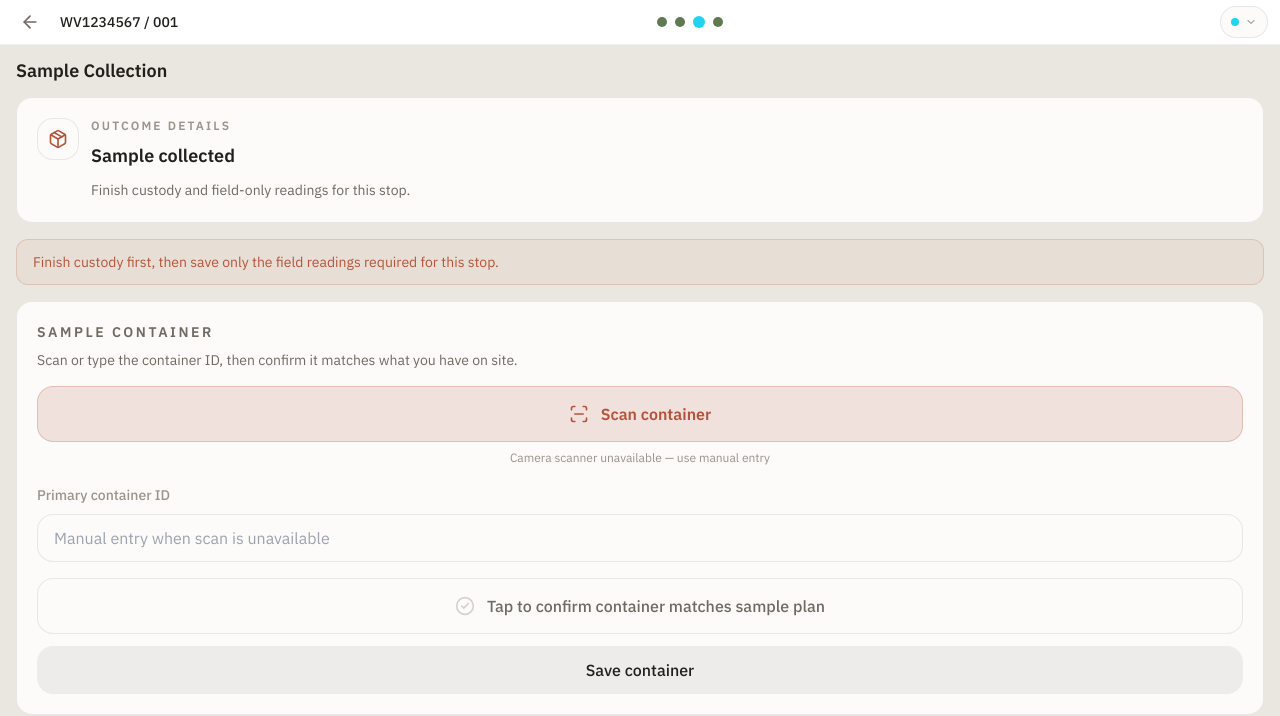
FieldVisitPage wizard › shows not-collectable form when standing water sub-check fails
Check: the navigation bar named "Field visit wizard progress" is shown, box [657, 16, 741, 28]
Click the button named "Site Assessment" at [680, 22], box [675, 17, 685, 27]
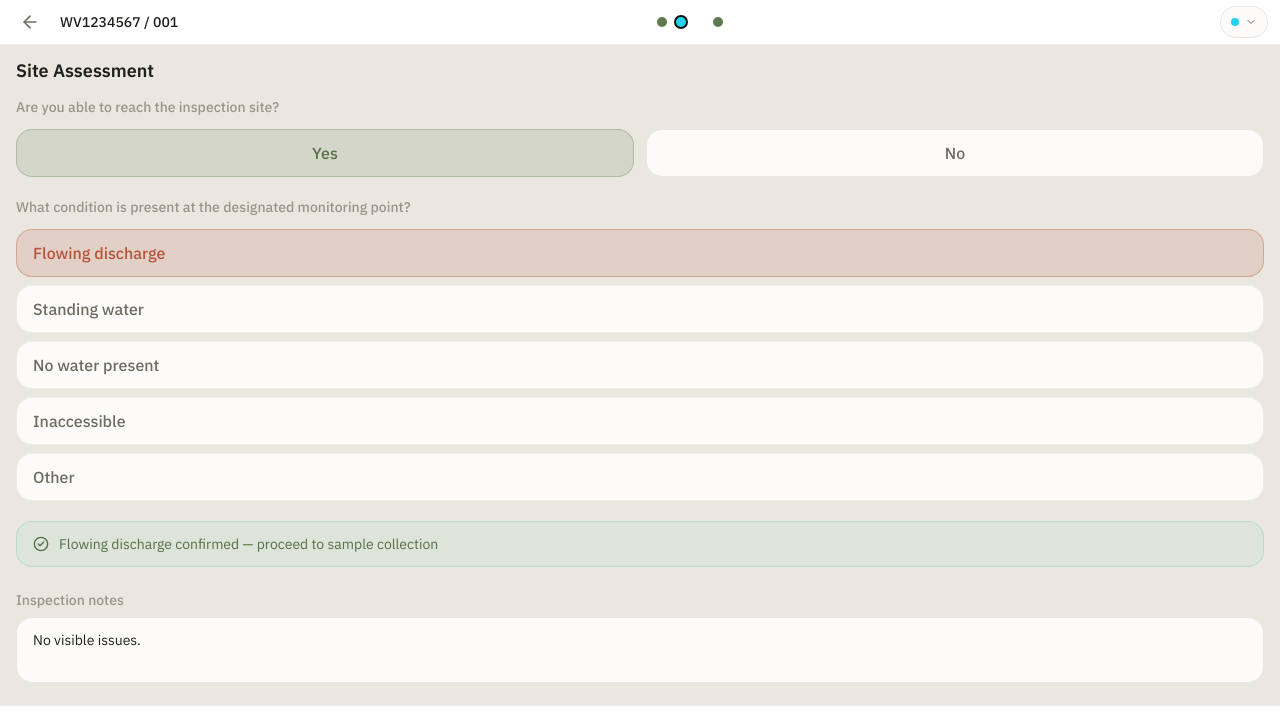
Check: the heading "Site Assessment" is shown, box [16, 59, 154, 82]
Click the button "Standing water" at [88, 309], box [16, 285, 1264, 333]
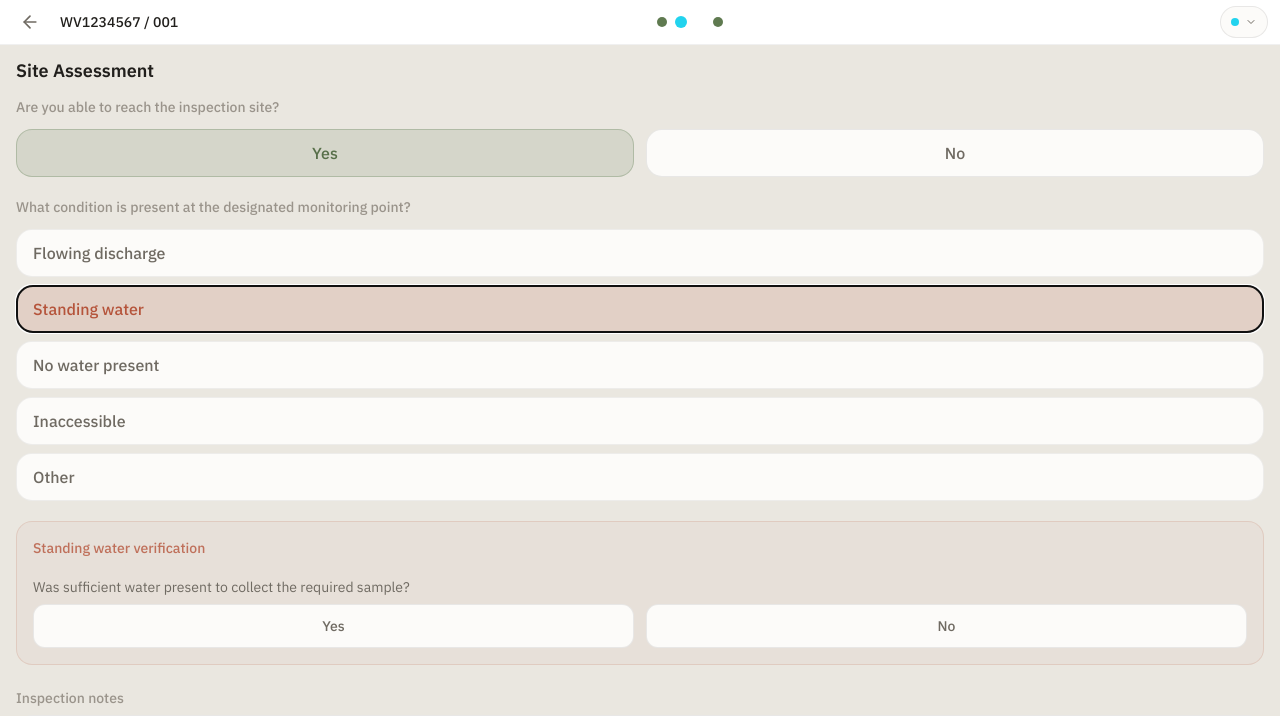
Click the 2nd button "No" at [946, 626], box [646, 604, 1247, 648]
(page scrolled)
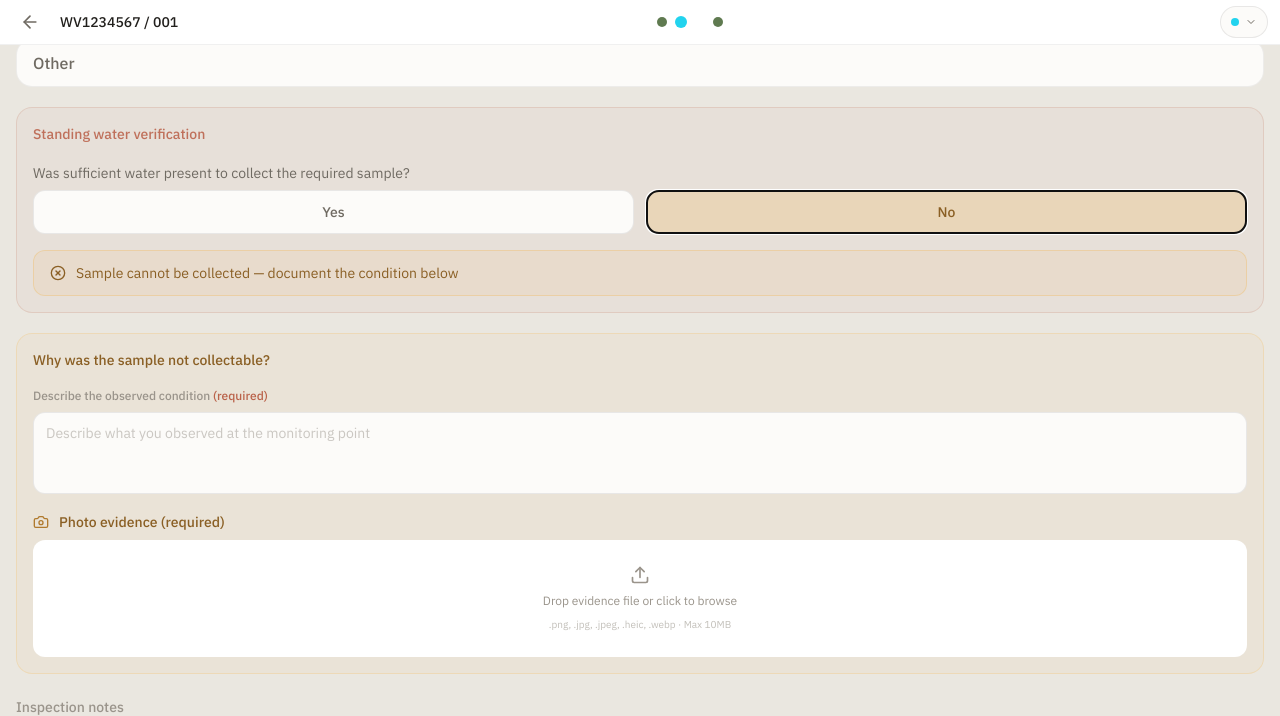
Check: the text "Sample cannot be collected — document the condition below" is shown, box [76, 263, 458, 283]
Check: the text "Why was the sample not collectable?" is shown, box [33, 351, 270, 369]
